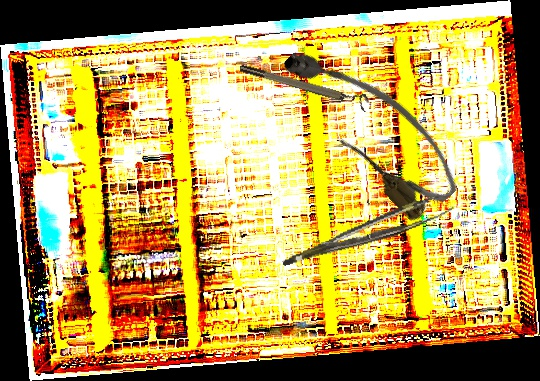Cannula: (272, 22, 471, 228)
Fixation Ring: (238, 56, 371, 113)
Tissue Forceps: (276, 191, 460, 267)
